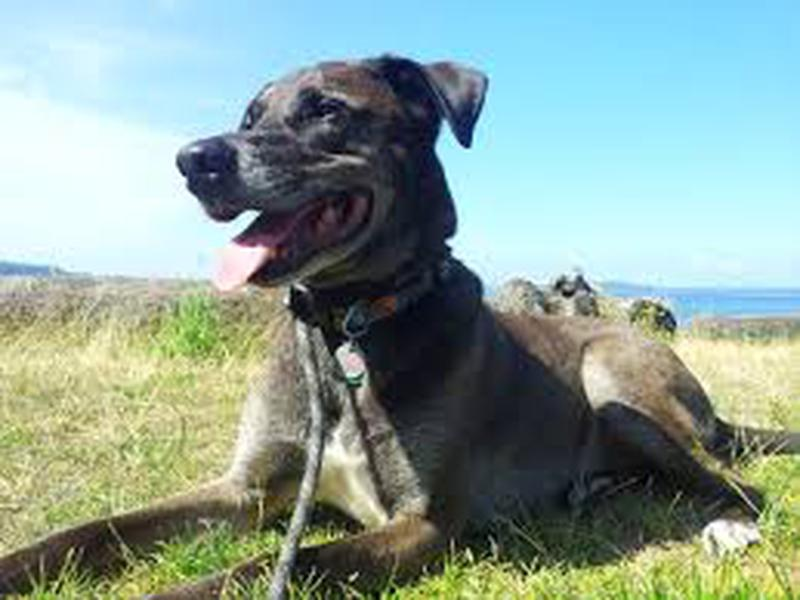dog_down: (5, 47, 795, 600)
